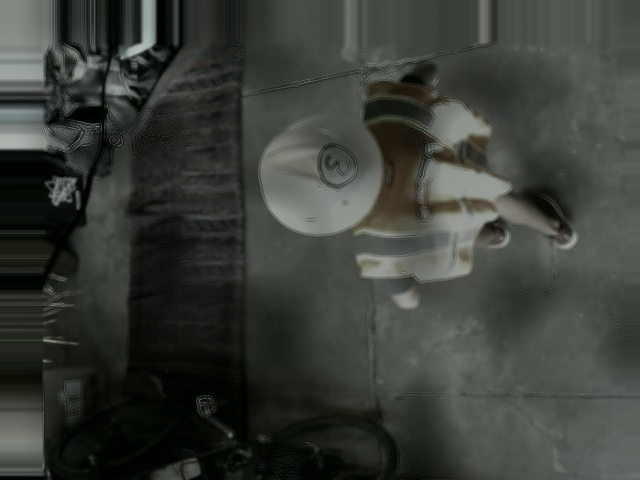three: (319, 143, 357, 187)
